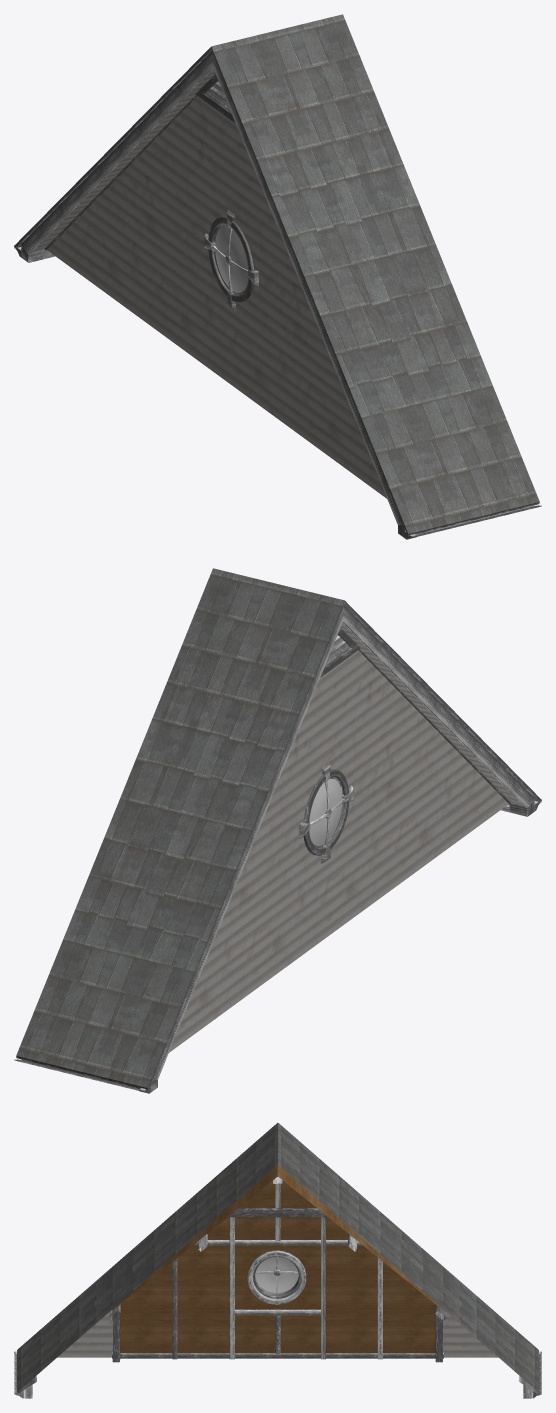
Rendered from SM_Roof_C_End_A1.fbx.
3 renders of one model, top to bottom at view 1: azimuth 30°, elevation 25°; view 2: azimuth 150°, elevation 25°; view 3: azimuth 270°, elevation 25°, orthographic. The views are drawn at different scales.
Parts seen in each view (by area): view 1: SM_Roof_C_End_A1; view 2: SM_Roof_C_End_A1; view 3: SM_Roof_C_End_A1.
Part boxes in pixels (x1,y1,x2,y2): SM_Roof_C_End_A1: [14, 14, 541, 539]; SM_Roof_C_End_A1: [14, 568, 541, 1093]; SM_Roof_C_End_A1: [14, 1122, 541, 1398].
Size of the model in its own units: 176 by 920 by 449.
7 materials, 6 textured.
